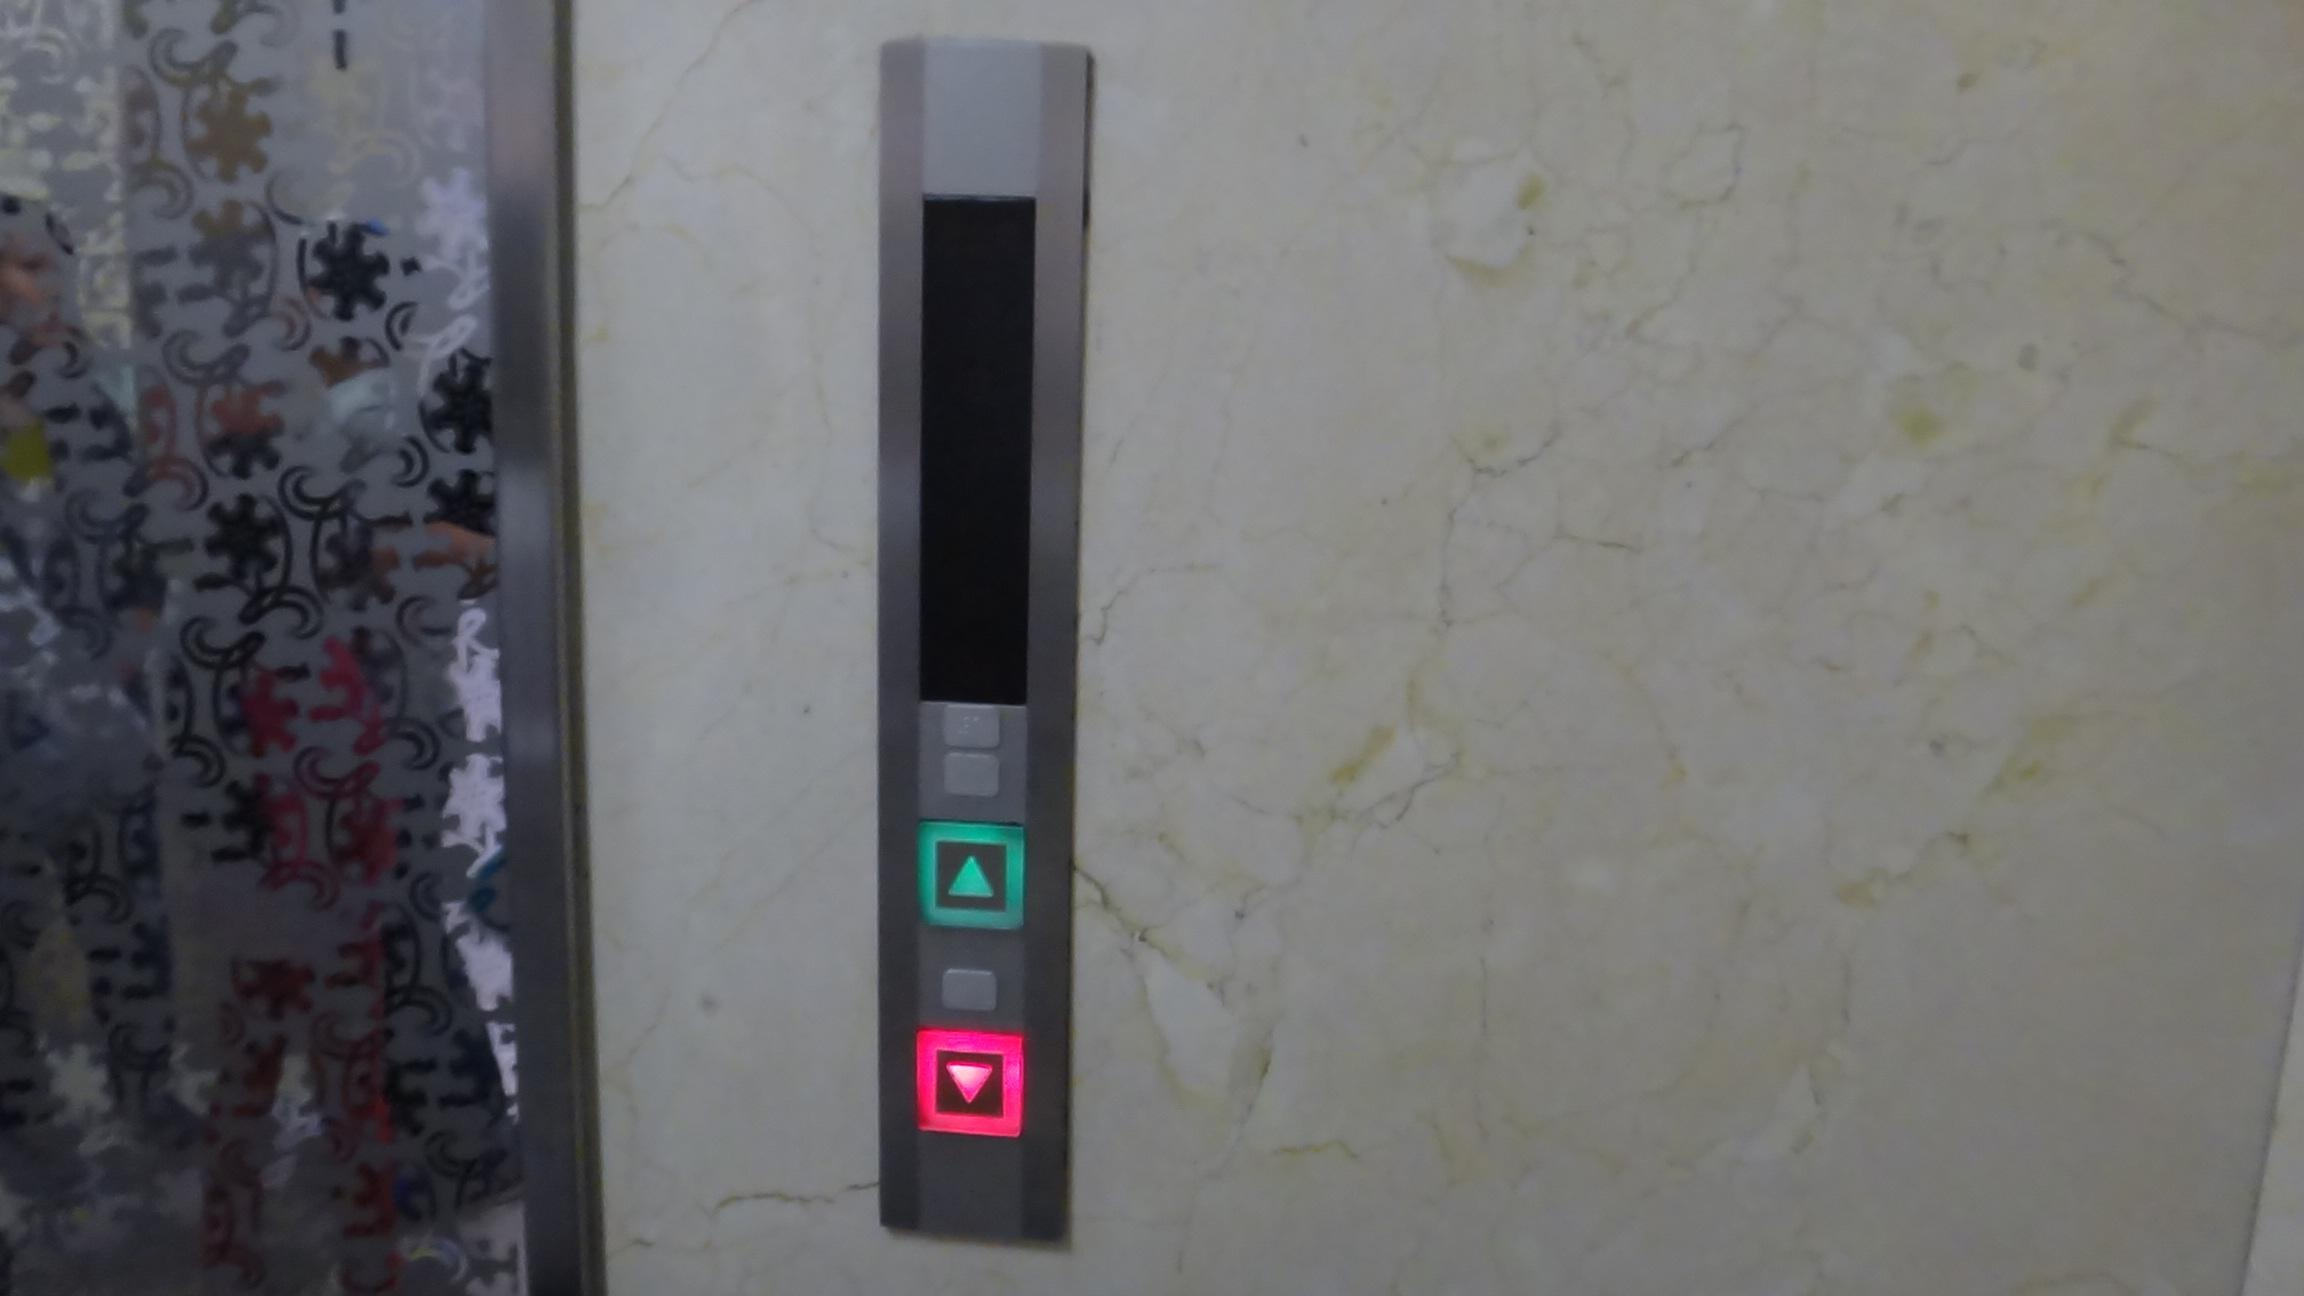down: (910, 1017, 1032, 1146)
led: (911, 174, 1041, 715)
up: (905, 805, 1033, 940)
